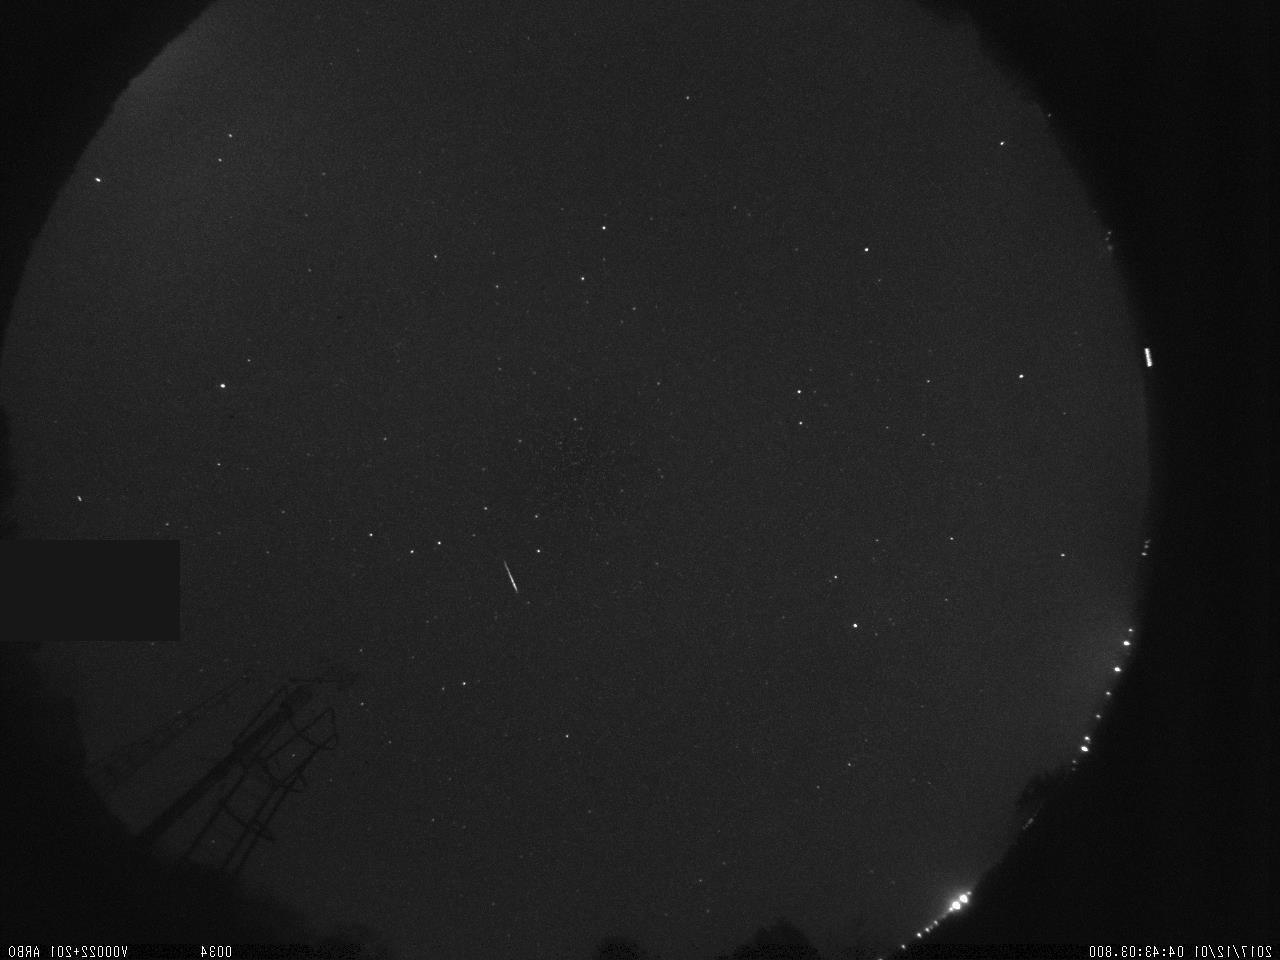meteor: (468, 552, 538, 603)
